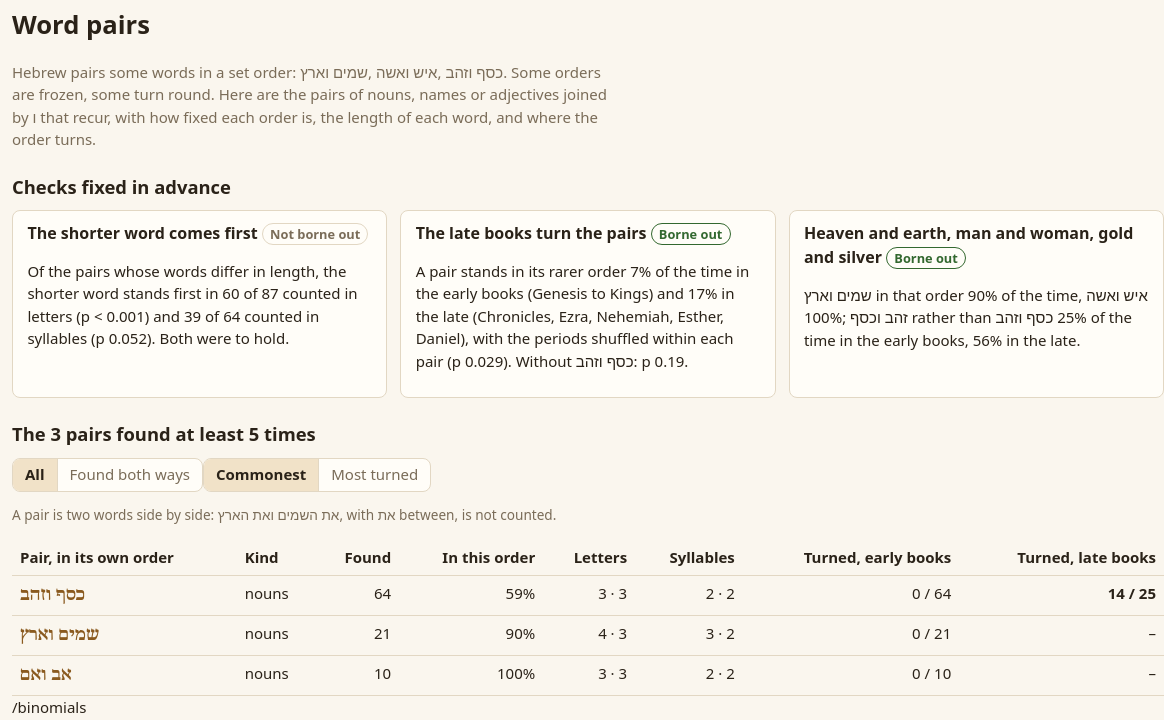
BinomialsPage › opens a pair with its occurrences in both orders
Click the button with aria-label "Where כסף וזהב is found". click: x=53, y=595
box: [20, 582, 85, 608]
(page scrolled)
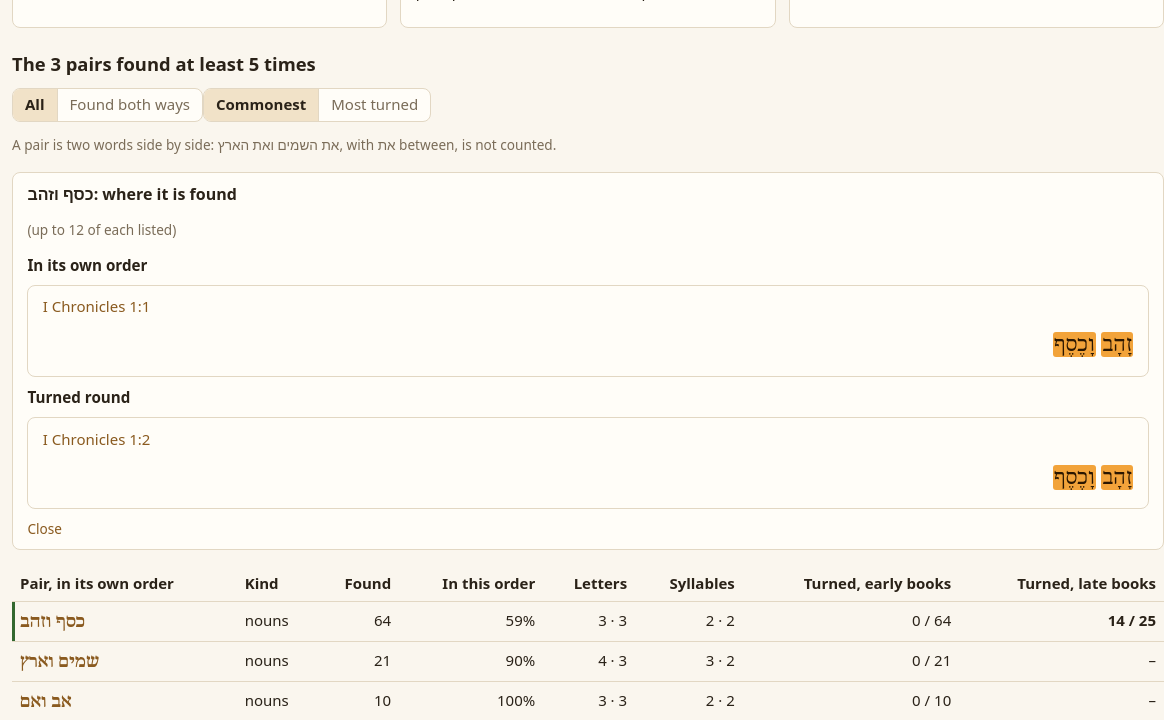
Expected: the heading "Turned round" is shown, [27, 387, 130, 407]
Expected: the number of list items with class "hit" is 2, [27, 285, 1149, 376]; [27, 417, 1149, 509]
Expected: the element with class "bn-panel" shows "(up to 12 of each listed)", [27, 220, 176, 239]
